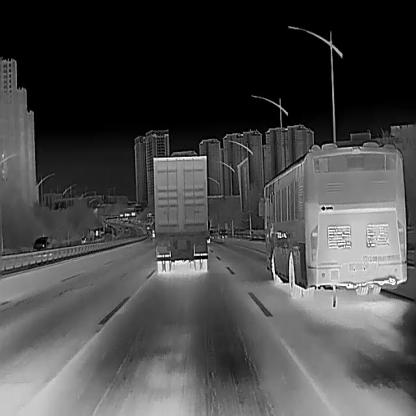bus: (258, 140, 406, 297)
car: (32, 234, 53, 249), (218, 227, 227, 237)
truck: (152, 154, 206, 272)
